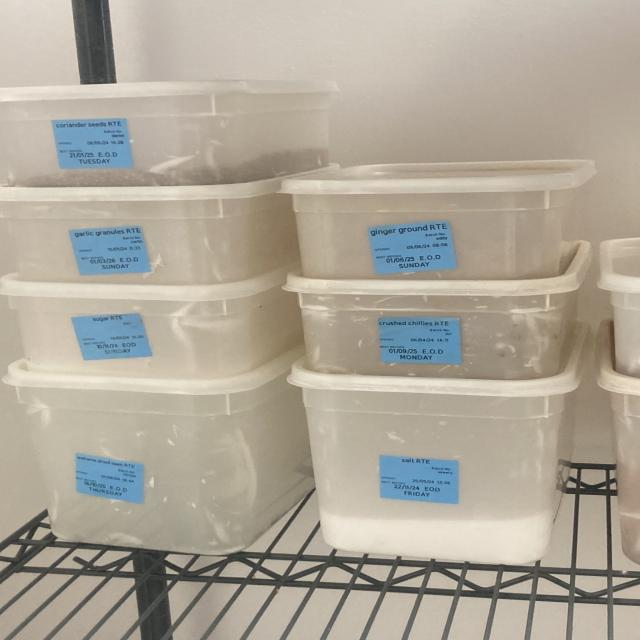product-labels: (368, 220, 458, 275), (71, 225, 153, 277), (54, 118, 134, 170), (377, 455, 461, 504), (71, 311, 153, 361), (70, 453, 149, 504), (379, 317, 463, 363)
